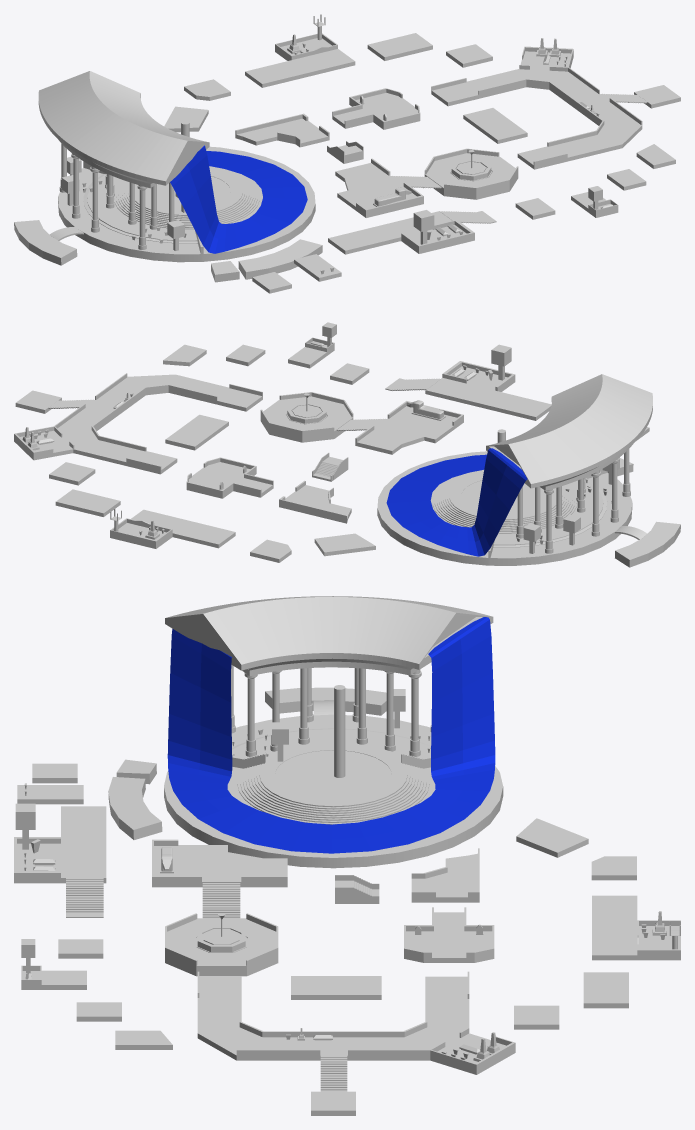
File: Map_002.fbx
The picture shows the model from 3 angles, top to bottom: view 1: azimuth 30°, elevation 25°; view 2: azimuth 150°, elevation 25°; view 3: azimuth 270°, elevation 25°; orthographic projection. The views are drawn at different scales.
Visible parts, largest first — view 1: Arène, Toit, Platform_U, Plane.001, Platform_201, Platform_405.001, Platform_302, Platform_200, Platform_.101, Platform_.102, Pilonne, Platform_501 (+18 smaller); view 2: Arène, Toit, Platform_U, Plane.001, Platform_201, Platform_405.001, Platform_200, Platform_302, Platform_.101, Pilonne, Platform_.102, Platform_502 (+16 smaller); view 3: Plane.001, Arène, Toit, Platform_U, Platform_201, Platform_405.001, Platform_200, Platform_302, Platform_.101, Pilonne, Platform_.102, Platform_501 (+18 smaller).
Boxes of the visible parts, x1,y1,x2,y2 form: Arène: (58, 146, 315, 262); Toit: (38, 71, 209, 188); Platform_U: (431, 46, 642, 169); Plane.001: (170, 145, 307, 253); Platform_201: (424, 148, 518, 199); Platform_405.001: (328, 211, 474, 254); Platform_302: (245, 33, 355, 87); Platform_200: (335, 158, 423, 217); Platform_.101: (332, 88, 420, 129); Platform_.102: (235, 113, 329, 147); Pilonne: (71, 153, 158, 232); Platform_501: (238, 239, 322, 279); Arène: (377, 451, 632, 565); Toit: (486, 374, 652, 490); Platform_U: (14, 373, 262, 474); Plane.001: (386, 448, 527, 556); Platform_201: (260, 392, 353, 442); Platform_405.001: (425, 361, 551, 420); Platform_200: (355, 401, 463, 454); Platform_302: (110, 509, 235, 548); Platform_.101: (186, 457, 273, 498); Pilonne: (534, 458, 619, 536); Platform_.102: (279, 480, 351, 523); Platform_502: (615, 521, 680, 567); Plane.001: (167, 617, 495, 853); Arène: (164, 714, 503, 868); Toit: (165, 596, 493, 676); Platform_U: (197, 971, 515, 1074); Platform_201: (165, 913, 278, 976); Platform_405.001: (14, 806, 106, 883); Platform_200: (152, 839, 287, 887); Platform_302: (592, 895, 680, 960); Platform_.101: (404, 907, 494, 962); Pilonne: (270, 668, 395, 751); Platform_.102: (411, 848, 479, 902); Platform_501: (108, 777, 162, 839).
Size of the model in its own units: 17320 by 3102 by 11793.
